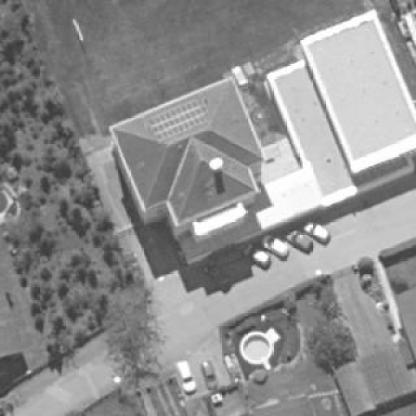solar-pv-panel: (148, 98, 209, 140)
